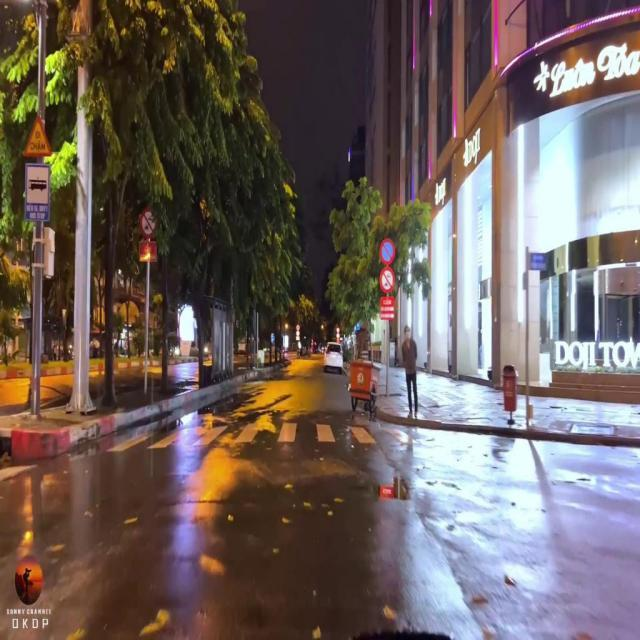130-cam-dung-va-do-xe: (379, 238, 396, 264)
245-di-cham: (21, 116, 52, 156)
